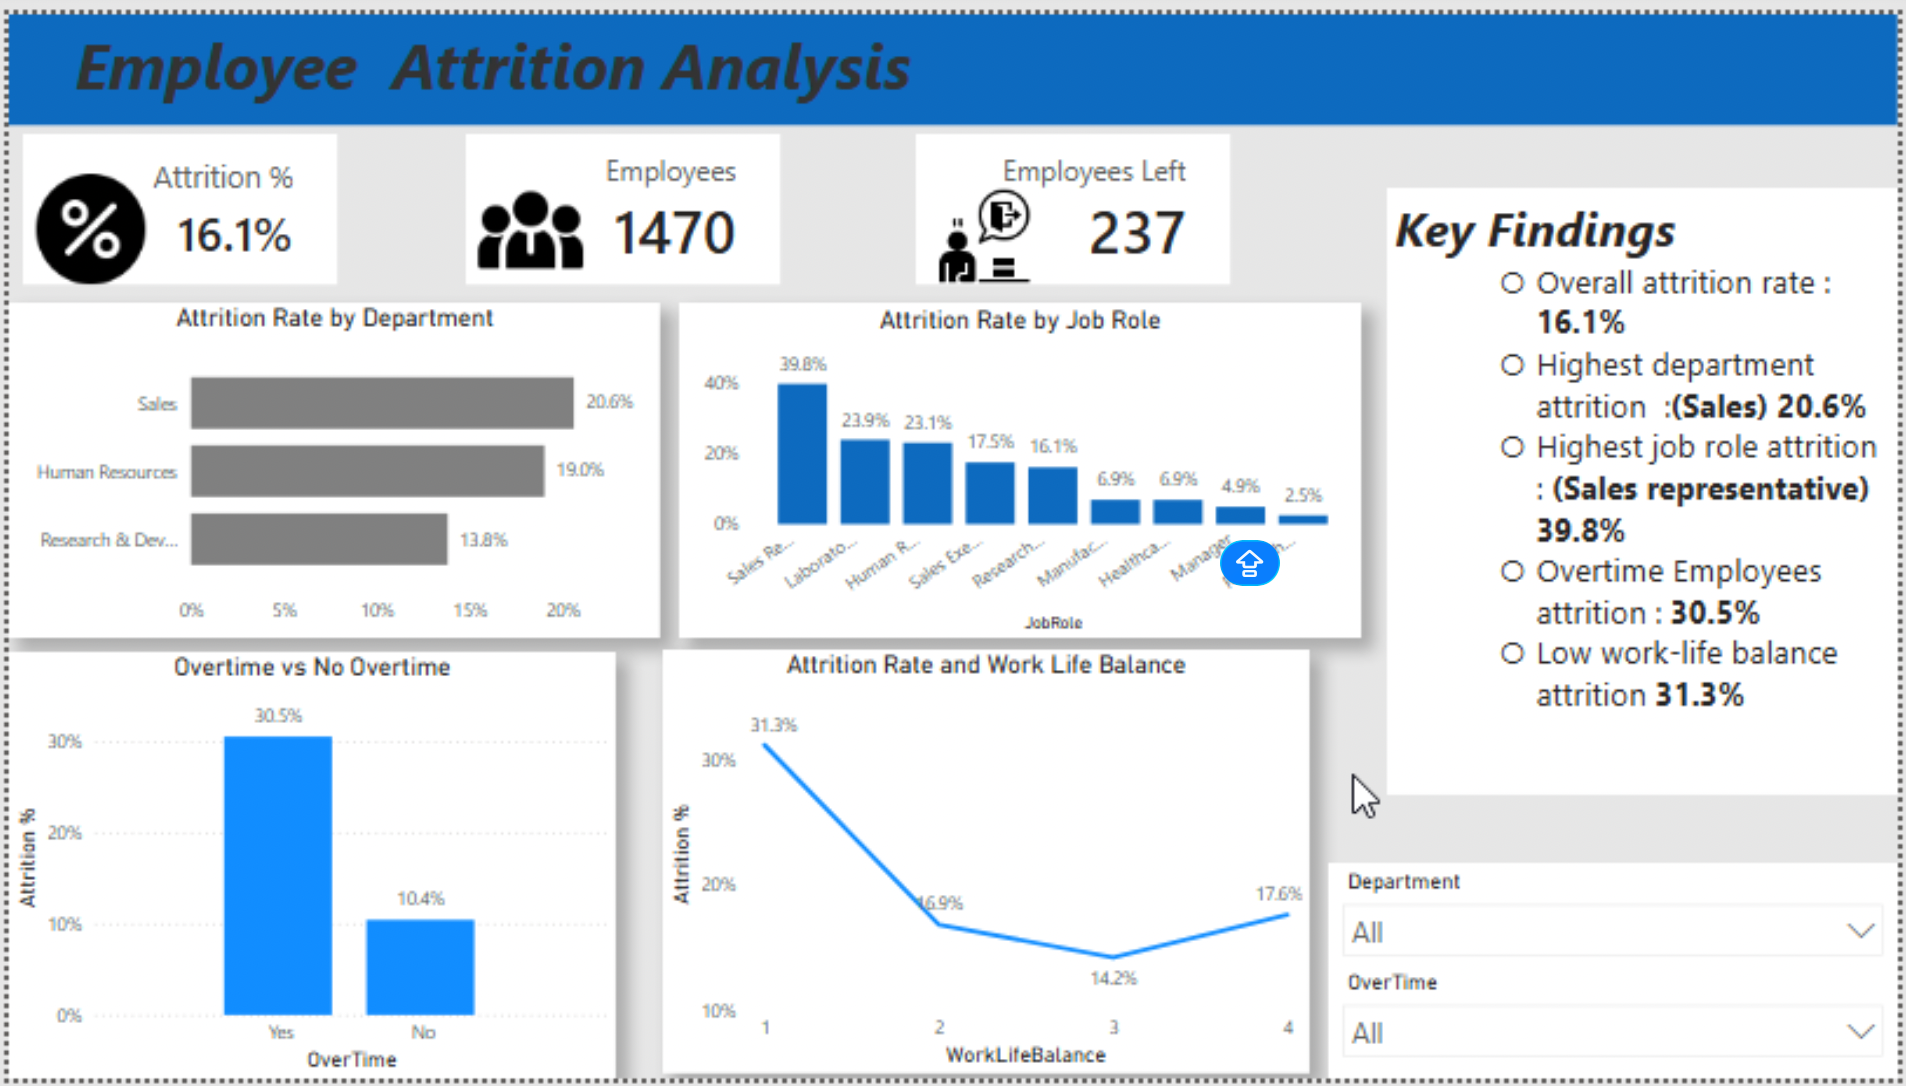

Layout of this report page (visuals, bound fields, positions):
{"tool":"powerbi","page":{"name":"Page 1","canvas":[1280,720],"ordinal":0},"visuals":[{"type":"cardVisual","title":"Employees","fields":{"Data":["CountNonNull(Table8.EmployeeNumber)"]},"box":[309.5,81,212.7,101.6],"z":0},{"type":"cardVisual","title":"Employees Left ","fields":{"Data":["CountNonNull(Table8.EmployeeNumber)"]},"box":[614.3,81,212.7,101.6],"z":2},{"type":"cardVisual","title":"Attrition % ","fields":{"Data":["Table8.Attrition %"]},"box":[9.5,81,212.7,101.6],"z":3},{"type":"clusteredBarChart","title":"Attrition Rate by Department","fields":{"Category":["Table8.Department"],"Y":["Table8.Attrition %"]},"box":[0,195.2,441.3,227],"z":5},{"type":"clusteredColumnChart","title":"Attrition Rate by Job Role","fields":{"Category":["Table8.JobRole"],"Y":["Table8.Attrition %"]},"box":[454,195.2,461.9,227],"z":6},{"type":"clusteredColumnChart","title":"Overtime vs No Overtime","fields":{"Category":["Table8.OverTime"],"Y":["Table8.Attrition %"]},"box":[0,431.7,411.1,288.9],"z":7},{"type":"lineChart","title":"Attrition Rate and Work Life Balance","fields":{"Category":["Table8.WorkLifeBalance"],"Y":["Table8.Attrition %"]},"box":[442.9,430.2,438.1,287.3],"z":8},{"type":"image","box":[309.5,107.9,87.3,76.2],"z":9},{"type":"image","box":[614.3,117.5,93.7,65.1],"z":10},{"type":"image","box":[9.5,107.9,92.1,74.6],"z":11},{"type":"textbox","box":[0,0,1279.4,74.6],"z":12},{"type":"slicer","fields":{"Values":["Table8.Department"]},"box":[893.7,574.6,385.7,71.4],"z":13},{"type":"slicer","fields":{"Values":["Table8.OverTime"]},"box":[893.7,642.9,385.7,77.8],"z":14},{"type":"textbox","box":[933.3,117.5,346,411.1],"z":15}]}

Visuals, with their boxes in screenshot pixels (x1, y1, x2, y2), scaled from the page's 1280x720 canvas onto the 1906x1086 screenshot:
"Employees" cardVisual: locate(461, 122, 778, 275)
"Employees Left " cardVisual: locate(915, 122, 1231, 275)
"Attrition % " cardVisual: locate(14, 122, 331, 275)
"Attrition Rate by Department" clusteredBarChart: locate(0, 294, 657, 637)
"Attrition Rate by Job Role" clusteredColumnChart: locate(676, 294, 1364, 637)
"Overtime vs No Overtime" clusteredColumnChart: locate(0, 651, 612, 1085)
"Attrition Rate and Work Life Balance" lineChart: locate(660, 649, 1312, 1082)
image: locate(461, 163, 591, 278)
image: locate(915, 177, 1054, 275)
image: locate(14, 163, 151, 275)
textbox: locate(0, 0, 1905, 113)
slicer - Table8.Department: locate(1331, 867, 1905, 974)
slicer - Table8.OverTime: locate(1331, 970, 1905, 1085)
textbox: locate(1390, 177, 1905, 797)
